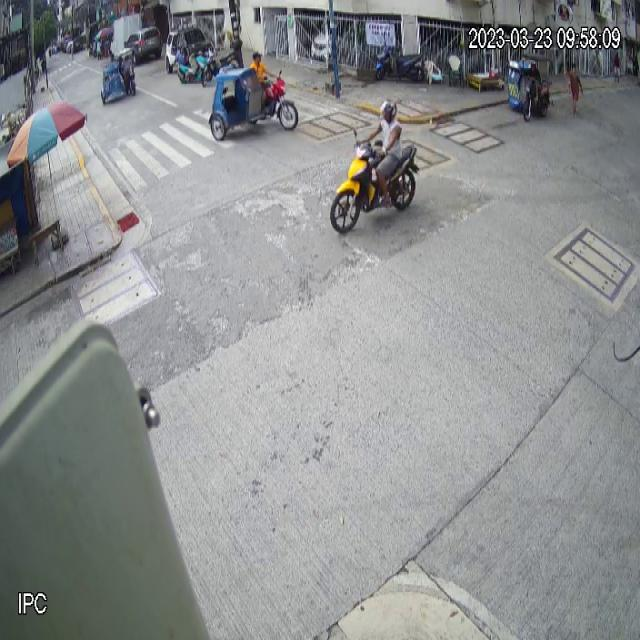Motorcycle: (330, 126, 420, 235)
Tricycle: (209, 65, 298, 142), (508, 57, 550, 122), (100, 47, 138, 104)
